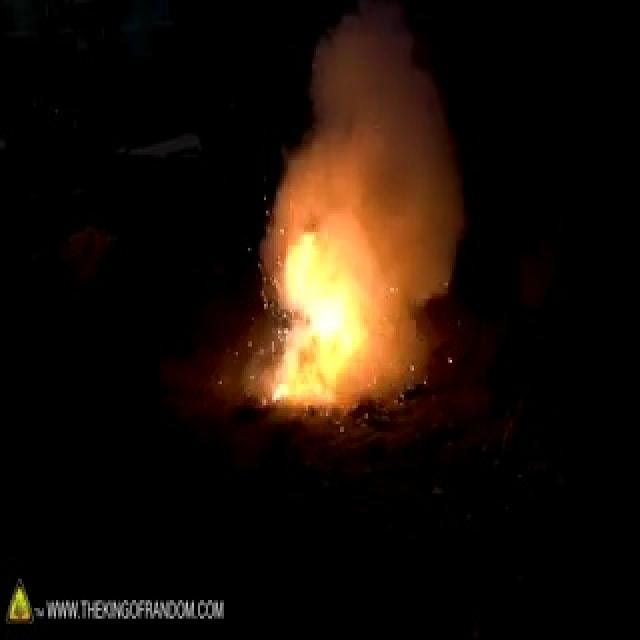Fire: (246, 245, 376, 416)
